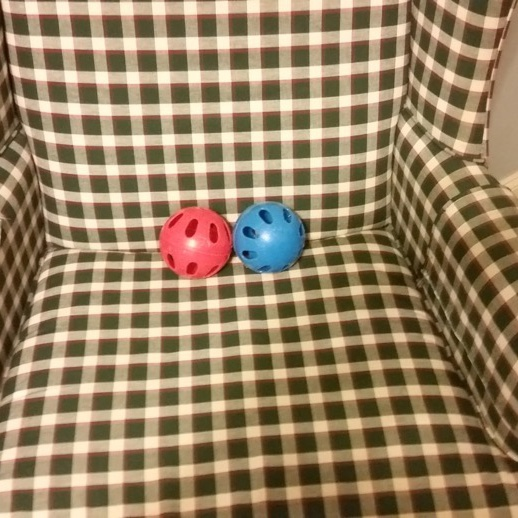blueball: (231, 197, 310, 277)
redball: (154, 198, 231, 282)
